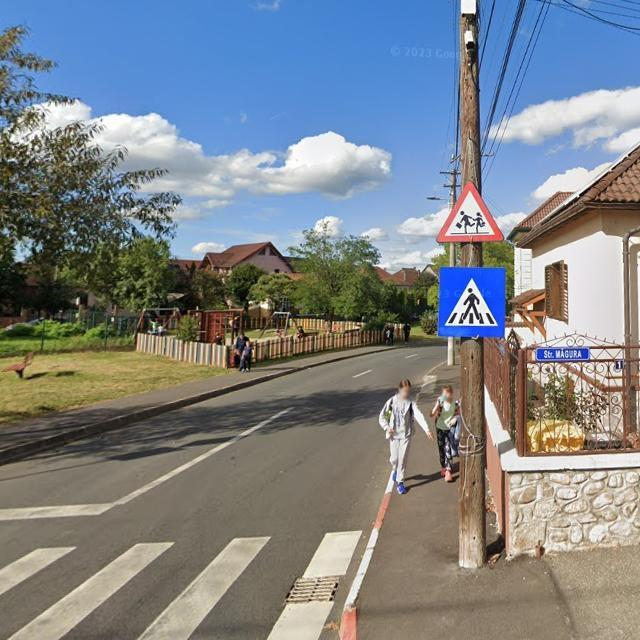info_crosswalk: (438, 266, 505, 338)
